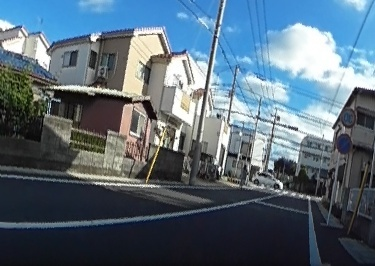person: (237, 163, 248, 187)
